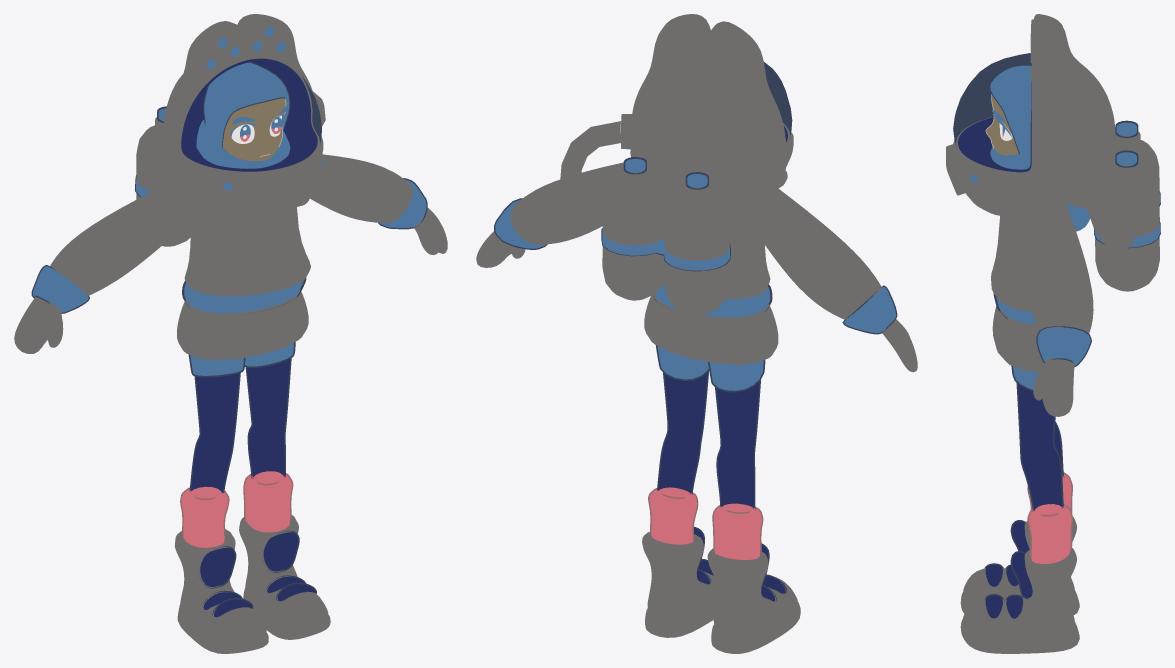
File: astronaut_t-pose.glb
3 views of the same model, side by side, from view 1: azimuth 30°, elevation 25°; view 2: azimuth 150°, elevation 25°; view 3: azimuth 270°, elevation 25° (orthographic).
Parts seen in each view (by area): view 1: Cube.001_0, Cube.024_1; view 2: Cube.001_0, Cube.024_1; view 3: Cube.001_0.
Boxes of the visible parts, x1,y1,x2,y2 form: Cube.001_0: (14,14,447,653); Cube.024_1: (181,487,227,546); Cube.001_0: (476,14,917,653); Cube.024_1: (714,503,761,559); Cube.001_0: (946,14,1160,653).
Size of what is drawn, in the model's own units: 1.39 by 1.86 by 0.5975.
